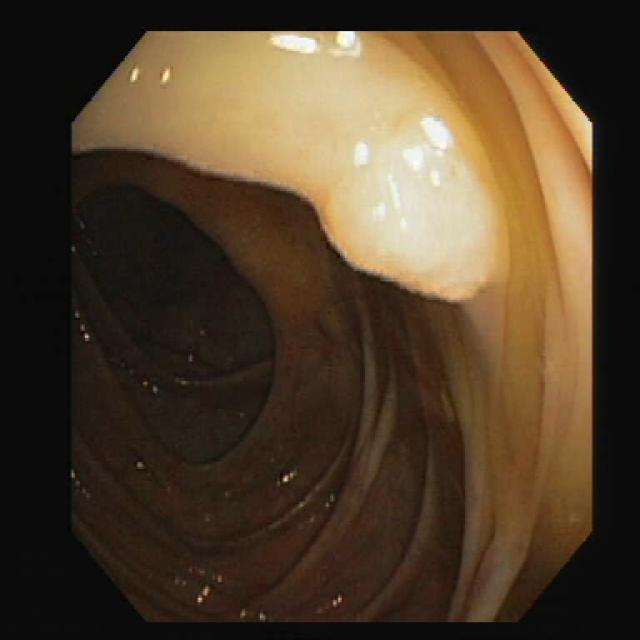tumor: (318, 93, 507, 300)
